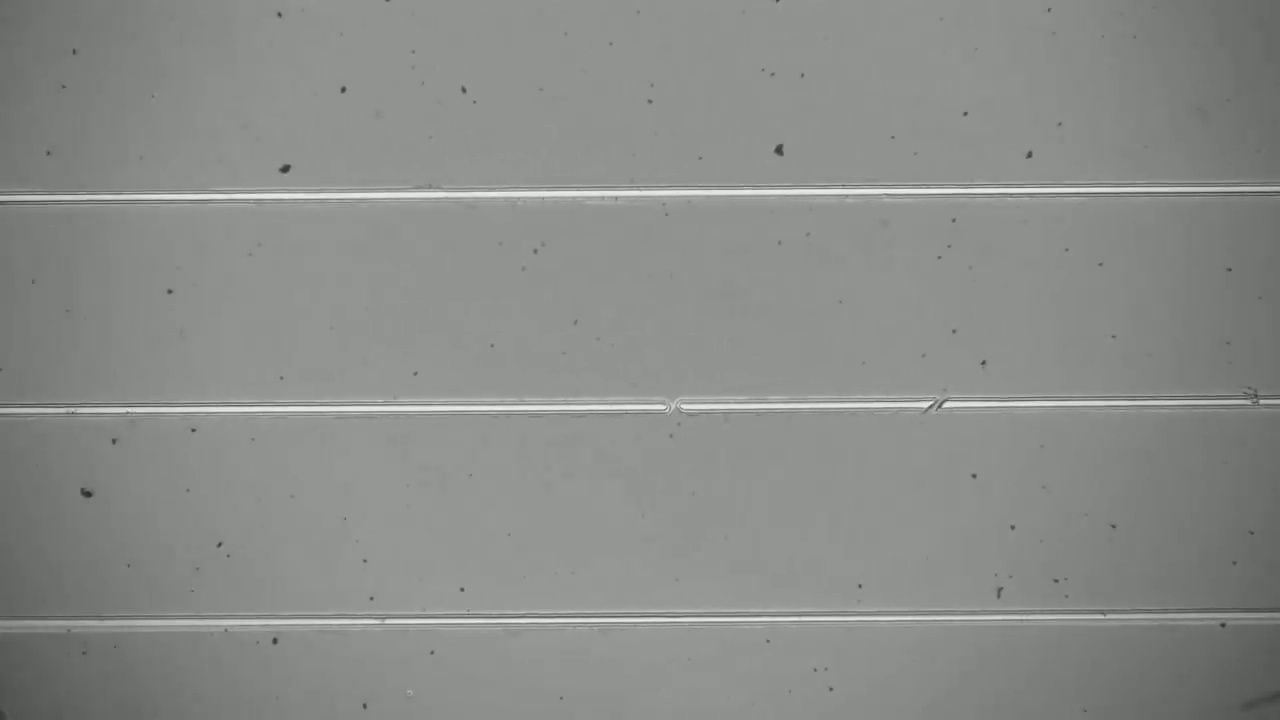open: (912, 389, 956, 426), (656, 394, 690, 425)
stains_enbedded: (1232, 377, 1268, 414)
